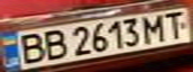1: (106, 17, 127, 50)
2: (66, 24, 93, 57)
3: (121, 16, 145, 47)
6: (90, 20, 112, 53)
B: (12, 30, 48, 65), (39, 28, 69, 61)
M: (139, 11, 172, 43)
T: (160, 9, 190, 39)
